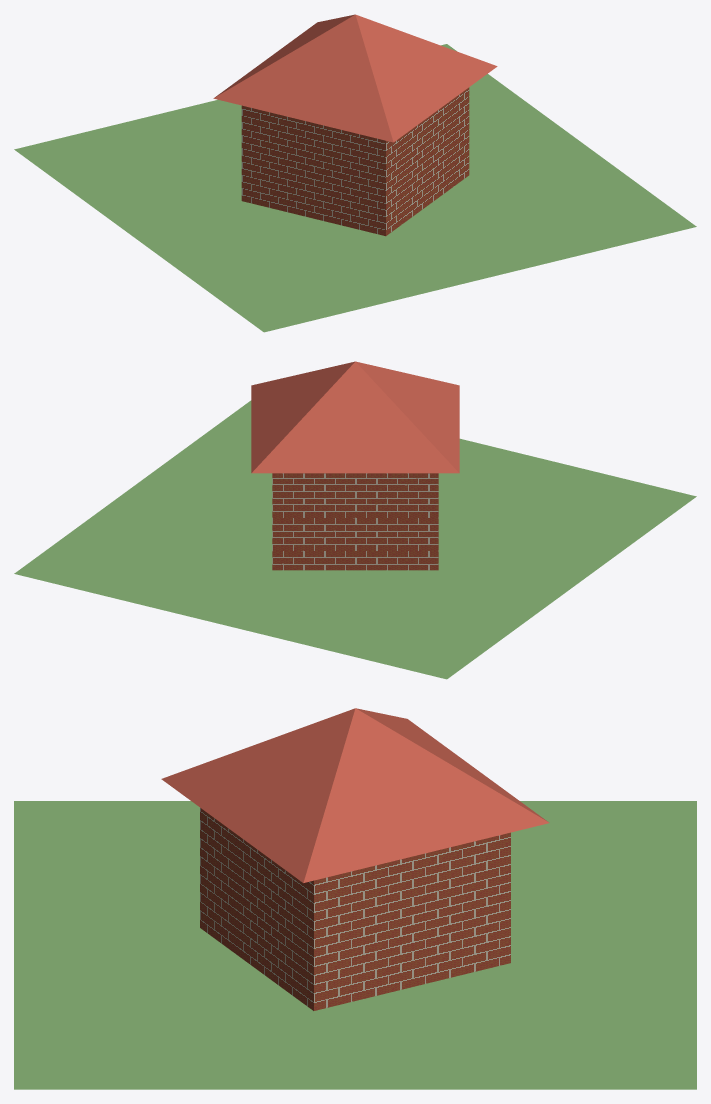
Rendered from sample.glb.
The picture shows the model from 3 angles, top to bottom: view 1: azimuth 30°, elevation 25°; view 2: azimuth 150°, elevation 25°; view 3: azimuth 270°, elevation 25°; orthographic projection. The views are drawn at different scales.
Parts seen in each view (by area): view 1: Ground, House, Roof; view 2: Ground, Roof, House; view 3: Ground, House, Roof.
Boxes of the visible parts, left/top/right/bottom form: Ground: left=14, top=44, right=696, bottom=332; House: left=241, top=87, right=469, bottom=236; Roof: left=213, top=14, right=497, bottom=142; Ground: left=14, top=400, right=696, bottom=679; Roof: left=251, top=361, right=459, bottom=473; House: left=272, top=473, right=438, bottom=570; Ground: left=14, top=801, right=696, bottom=1089; House: left=200, top=808, right=510, bottom=1010; Roof: left=161, top=708, right=549, bottom=882.
Bounding box in the file's own units: 6 × 2.3 × 6.
3 materials, 1 textured.
